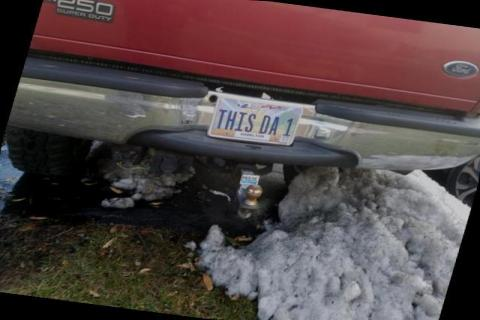LicensePlate: (204, 94, 302, 145)
